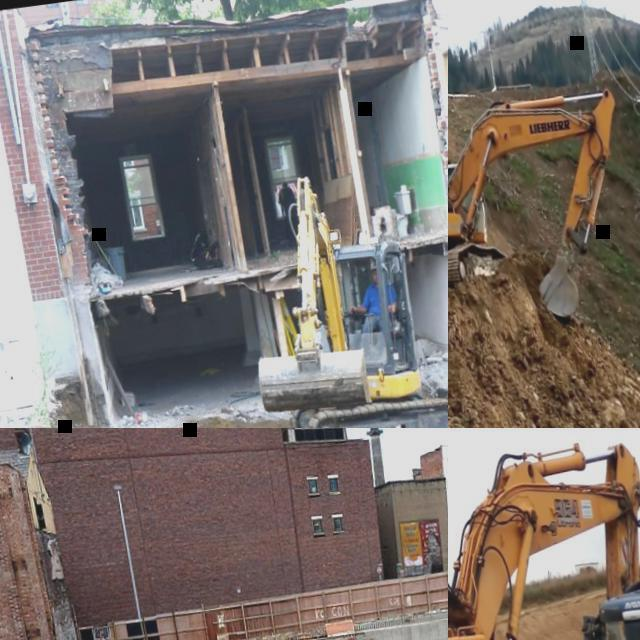machinery: (232, 157, 448, 428), (448, 79, 640, 344), (448, 428, 640, 640)
no_helmet: (368, 260, 380, 272)
no_mask: (374, 278, 379, 286)
no_vest: (366, 282, 394, 316)
person: (342, 259, 404, 355), (276, 180, 300, 233)
